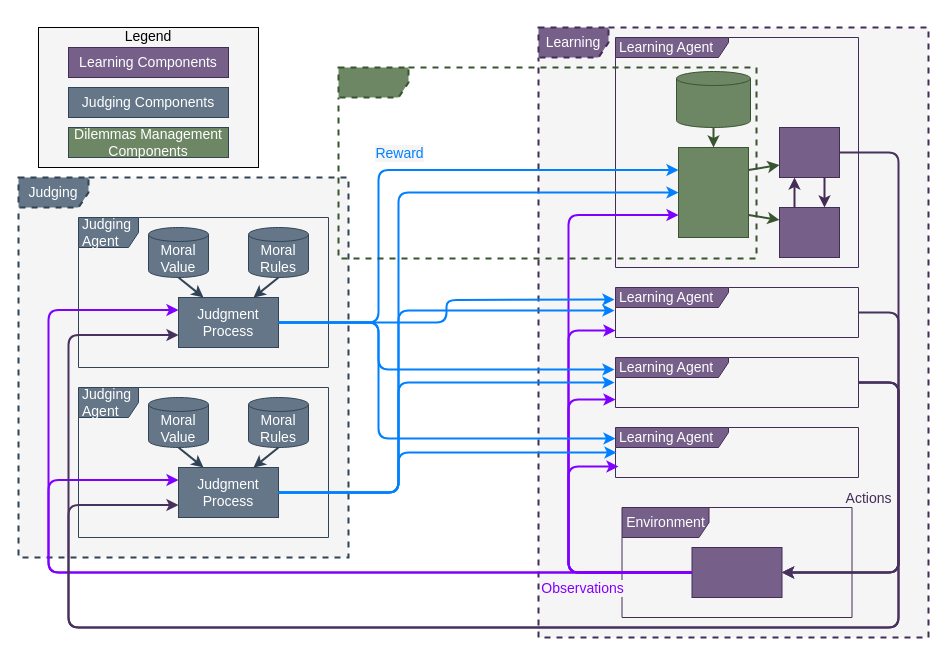
Image size: 946x655. Some labels were removed from this diagram. The centre of each missing label's shape, as x and y in pixels:
Compute Next State: the point at 736,572
Decision Process: the point at 809,152
Dilemmas: the point at 547,162
Human User Preferences: the point at 713,99
Identifying & addressing dilemmas: the point at 713,192
Learning Process: the point at 809,232
